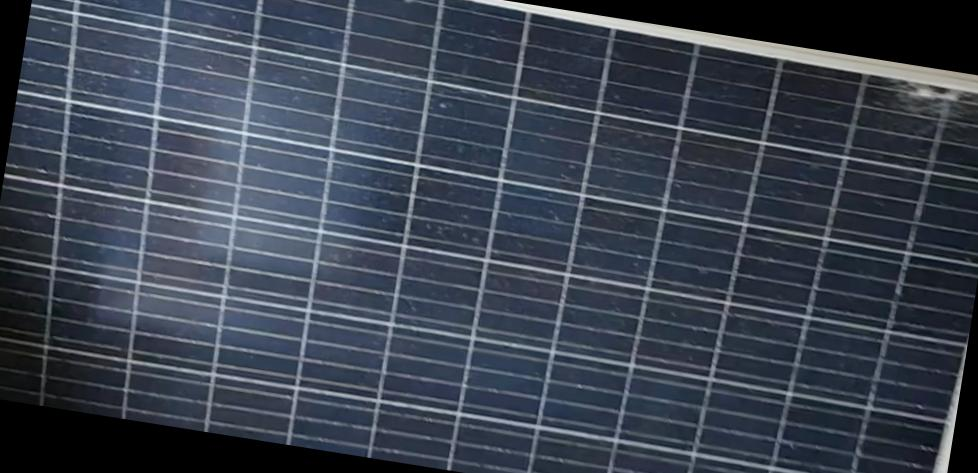Crack: (883, 72, 976, 127)
